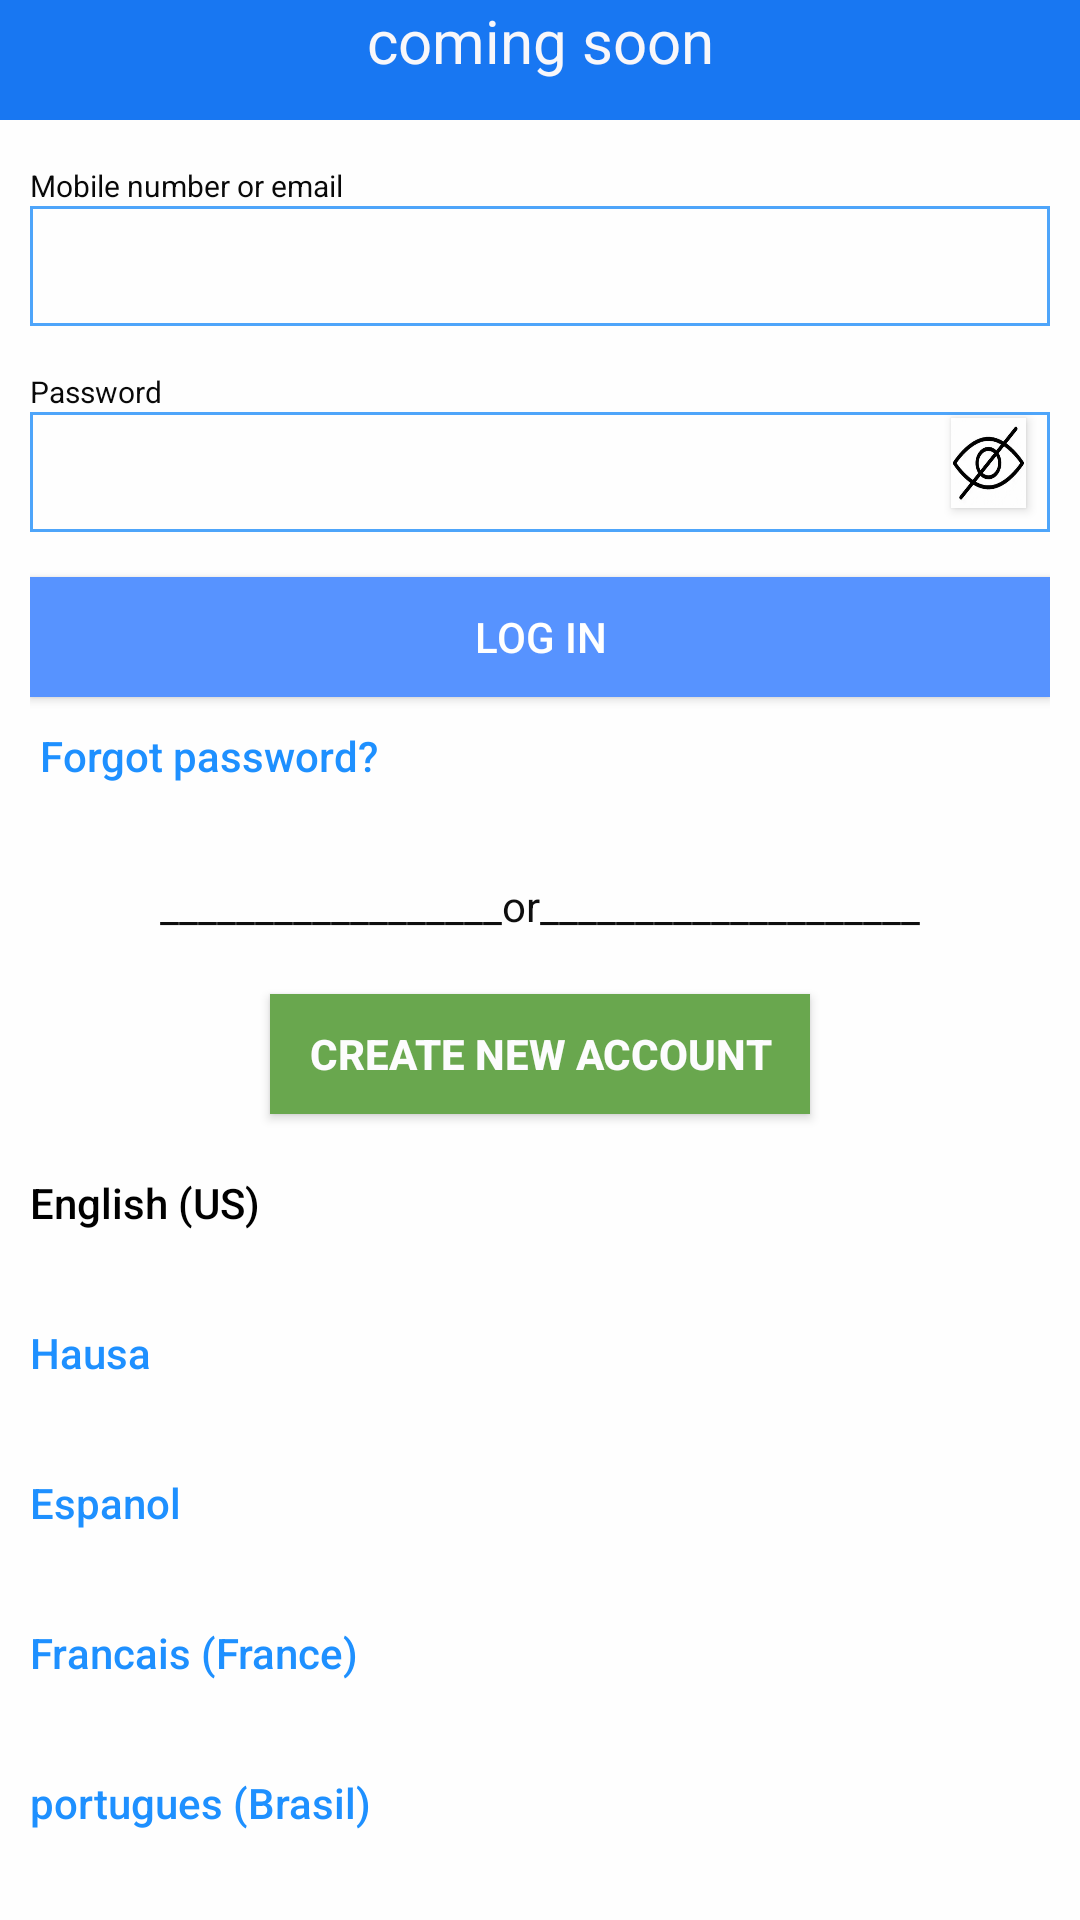

Where to tap for icons on this 1080px x 1920px app screen, as (x=x, y=y):
hide: (x=988, y=463)
